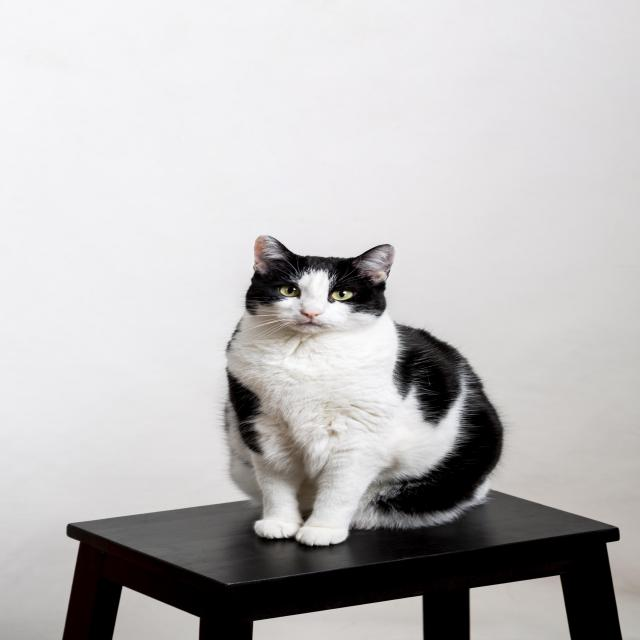cats-dogs: (219, 232, 507, 547)
